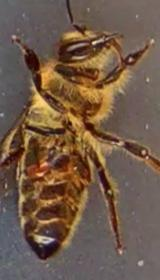varroa_mite: (18, 154, 58, 182)
